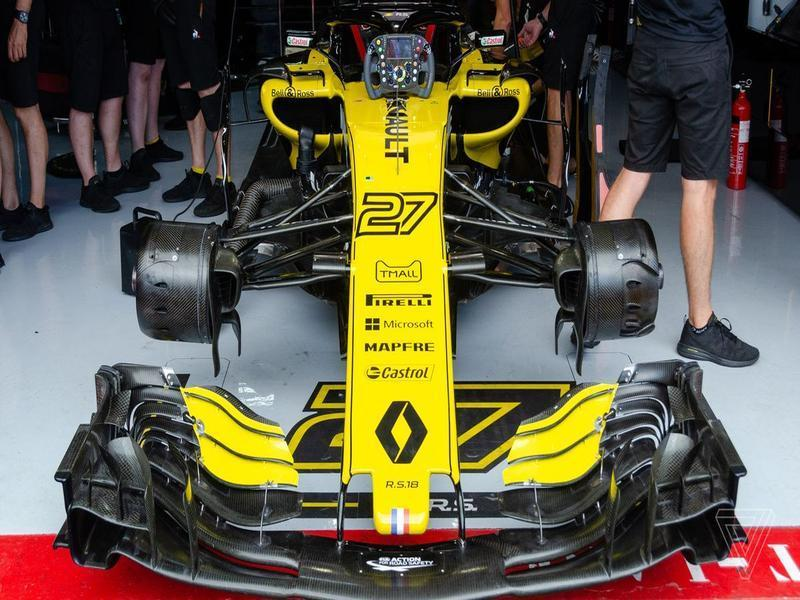f1: (100, 23, 780, 600)
